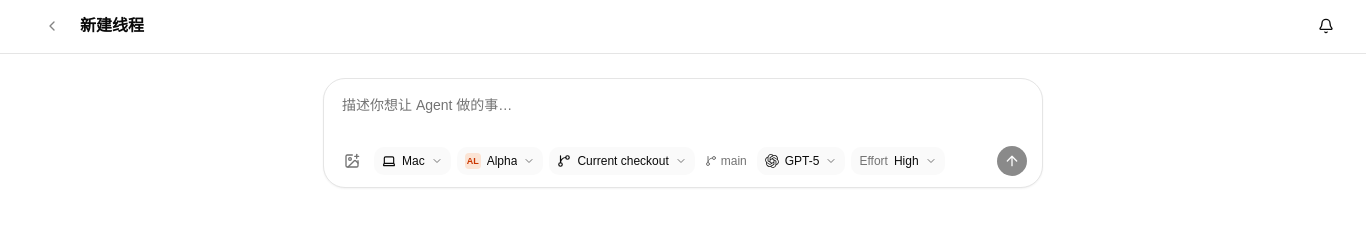
Test: NewThreadPage › shows an inline error when id generation throws instead of dying silently
Expected: the button with aria-label "项目" shows "Alpha", left=457, top=147, right=543, bottom=175
Type "hi" into the text box named "消息内容" at (683, 115), box left=338, top=91, right=1028, bottom=139
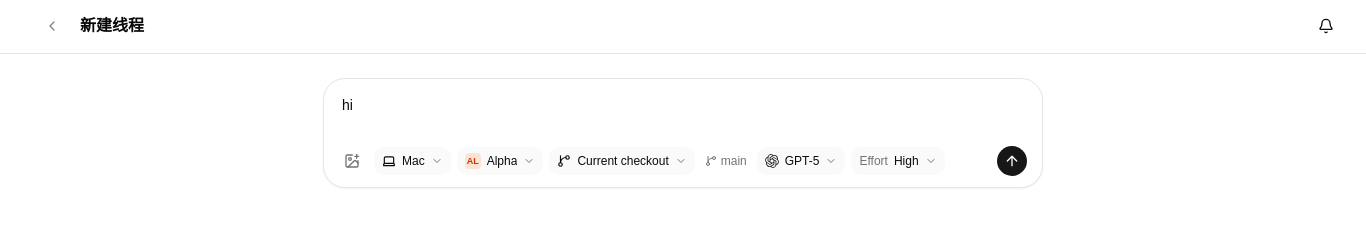
Click the button named "发送" at (1012, 161), box left=996, top=145, right=1028, bottom=177
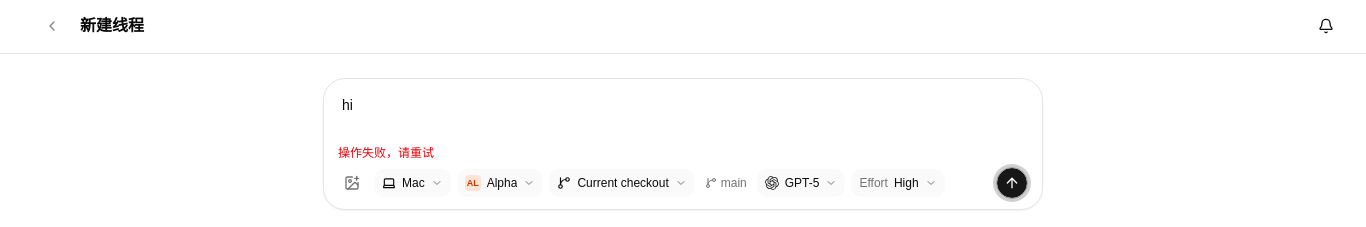
Expected: the message reads "操作失败，请重试", left=338, top=146, right=434, bottom=160
